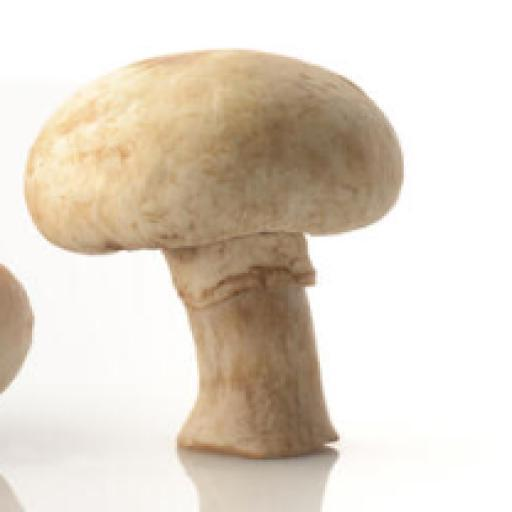mushroom: (21, 36, 411, 448)
